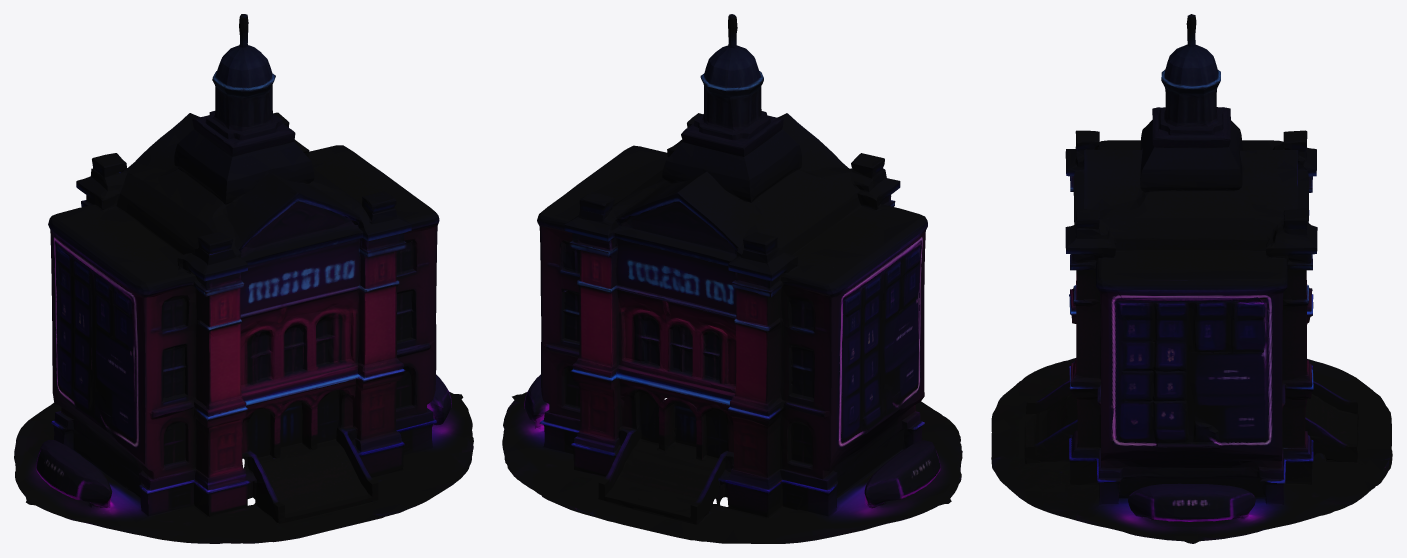
The model's file is Building3.glb.
The picture shows the model from 3 angles, left to right: view 1: azimuth 30°, elevation 25°; view 2: azimuth 150°, elevation 25°; view 3: azimuth 270°, elevation 25°; orthographic projection. The views are drawn at different scales.
Visible parts, largest first — view 1: world; view 2: world; view 3: world.
Boxes of the visible parts, <box> form: world: <box>14,14,473,543</box>; world: <box>502,14,962,543</box>; world: <box>991,14,1392,543</box>.
Size of the model in its own units: 0.9912 by 0.9488 by 0.8074.
Materials: 1 (1 with a texture image).
